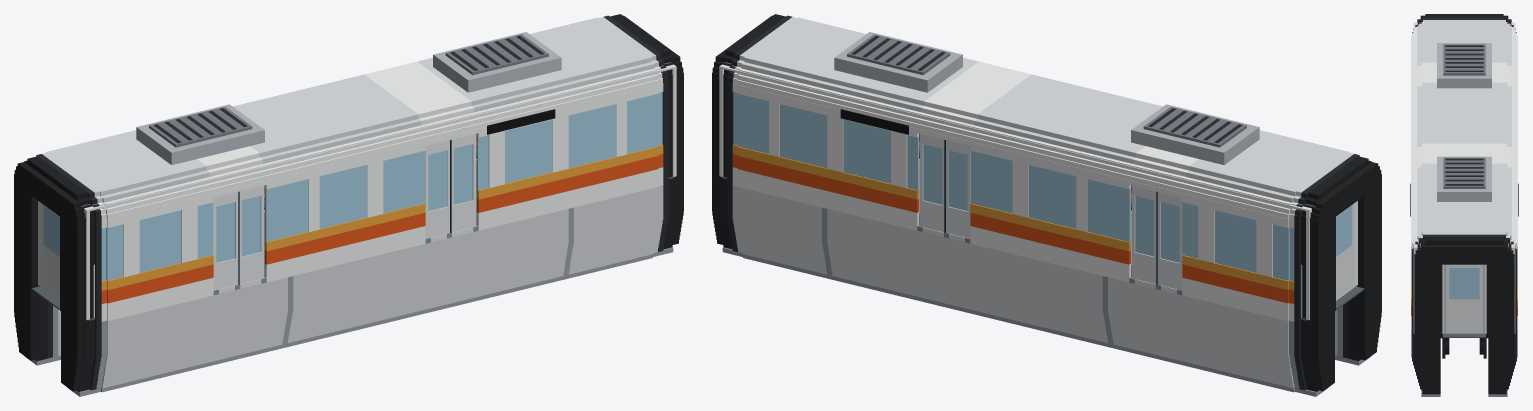
File: yui_rail_car.obj
3 renders of one model, left to right at view 1: azimuth 30°, elevation 25°; view 2: azimuth 150°, elevation 25°; view 3: azimuth 270°, elevation 25°, orthographic. The views are drawn at different scales.
Parts seen in each view (by area): view 1: SHELL, SHELL_diaphragm, SHELL_roof, EXTERNAL_DOOR_4_CG_DR1_TOGGLE_TL_-0.54_X, EXTERNAL_DOOR_10_CG_DR2_TOGGLE_TL_-0.54_X, EXTERNAL_DOOR_5_CG_DR1_TOGGLE_TL_0.54_X, EXTERNAL_DOOR_11_CG_DR2_TOGGLE_TL_0.54_X, SHELL_ceiling, CONNECTING_DOOR_1_CG_CR_TOGGLE_TL_0.98_Z, SHELL_end, SHELL_ad, SHELL_sign; view 2: SHELL, SHELL_diaphragm, SHELL_roof, EXTERNAL_DOOR_7_CG_DL1_TOGGLE_TL_-0.54_X, EXTERNAL_DOOR_13_CG_DL2_TOGGLE_TL_-0.54_X, EXTERNAL_DOOR_8_CG_DL1_TOGGLE_TL_0.54_X, EXTERNAL_DOOR_14_CG_DL2_TOGGLE_TL_0.54_X, SHELL_ceiling, CONNECTING_DOOR_1_CG_CR_TOGGLE_TL_0.98_Z, SHELL_end, SHELL_ad, SHELL_sign; view 3: SHELL, SHELL_diaphragm, SHELL_roof, CONNECTING_DOOR_2_CG_CF_TOGGLE_TL_0.98_Z, SHELL_ceiling, SHELL_end, BOGEY_FRONT, SHELL_floor, SHELL_gangway.
Boxes of the visible parts, x1,y1,x2,y2 form: SHELL: [24, 14, 677, 396]; SHELL_diaphragm: [14, 15, 683, 391]; SHELL_roof: [136, 32, 561, 164]; EXTERNAL_DOOR_4_CG_DR1_TOGGLE_TL_-0.54_X: [213, 191, 239, 290]; EXTERNAL_DOOR_10_CG_DR2_TOGGLE_TL_-0.54_X: [425, 140, 451, 238]; EXTERNAL_DOOR_5_CG_DR1_TOGGLE_TL_0.54_X: [239, 185, 264, 284]; EXTERNAL_DOOR_11_CG_DR2_TOGGLE_TL_0.54_X: [451, 134, 476, 232]; SHELL_ceiling: [84, 63, 673, 210]; CONNECTING_DOOR_1_CG_CR_TOGGLE_TL_0.98_Z: [41, 203, 59, 300]; SHELL_end: [38, 62, 676, 320]; SHELL_ad: [103, 72, 658, 209]; SHELL_sign: [487, 109, 555, 134]; SHELL: [718, 14, 1371, 396]; SHELL_diaphragm: [712, 15, 1381, 391]; SHELL_roof: [834, 32, 1259, 164]; EXTERNAL_DOOR_7_CG_DL1_TOGGLE_TL_-0.54_X: [1156, 191, 1182, 290]; EXTERNAL_DOOR_13_CG_DL2_TOGGLE_TL_-0.54_X: [944, 140, 970, 238]; EXTERNAL_DOOR_8_CG_DL1_TOGGLE_TL_0.54_X: [1131, 185, 1156, 284]; EXTERNAL_DOOR_14_CG_DL2_TOGGLE_TL_0.54_X: [919, 134, 944, 232]; SHELL_ceiling: [722, 63, 1311, 210]; CONNECTING_DOOR_1_CG_CR_TOGGLE_TL_0.98_Z: [1336, 203, 1354, 300]; SHELL_end: [719, 62, 1357, 320]; SHELL_ad: [737, 72, 1292, 209]; SHELL_sign: [840, 109, 908, 134]; SHELL: [1411, 14, 1517, 396]; SHELL_diaphragm: [1414, 15, 1514, 394]; SHELL_roof: [1437, 43, 1491, 201]; CONNECTING_DOOR_2_CG_CF_TOGGLE_TL_0.98_Z: [1445, 264, 1483, 333]; SHELL_ceiling: [1413, 23, 1515, 246]; SHELL_end: [1413, 22, 1515, 333]; BOGEY_FRONT: [1442, 338, 1486, 358]; SHELL_floor: [1444, 265, 1484, 331]; SHELL_gangway: [1443, 332, 1485, 337].
Size of the model in its own units: 14.32 by 4.85 by 2.82.
1 material, 1 textured.
